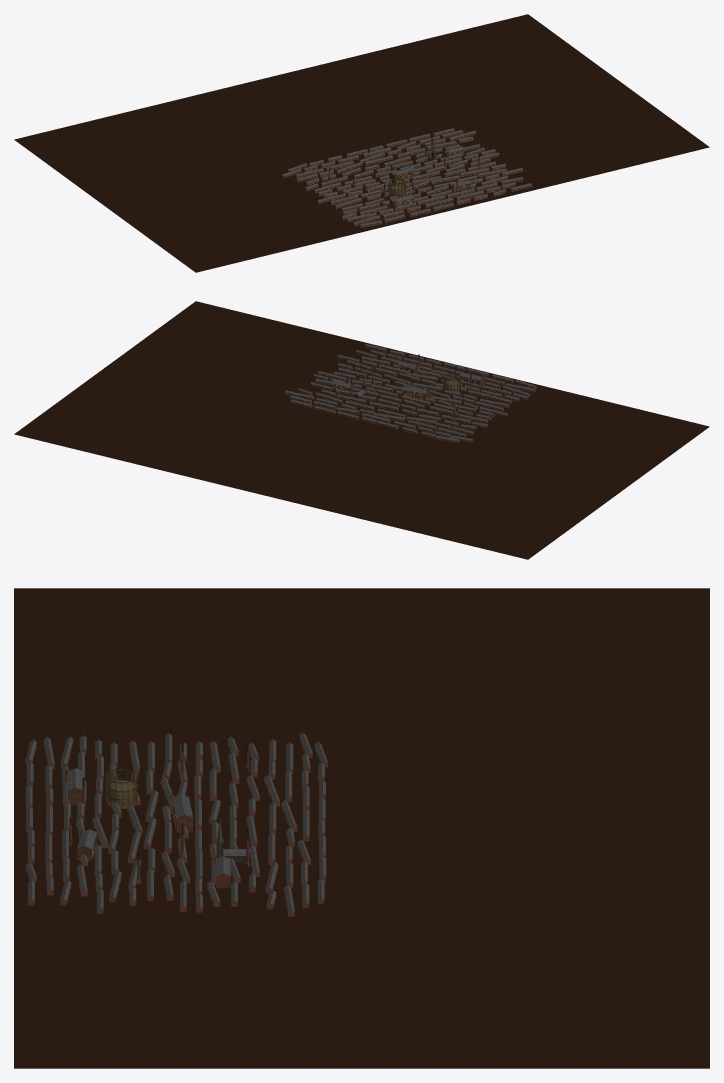
File: far-town.glb
3 views of the same model, one above another, from view 1: azimuth 30°, elevation 25°; view 2: azimuth 150°, elevation 25°; view 3: azimuth 270°, elevation 25° (orthographic). The views are drawn at different scales.
Parts seen in each view (by area): view 1: far-town-cinder-ground; view 2: far-town-cinder-ground; view 3: far-town-cinder-ground, far-town-gasholder-frame-and-bell.
Boxes of the visible parts, x1,y1,x2,y2 form: far-town-cinder-ground: (14,14,709,272); far-town-cinder-ground: (14,301,709,559); far-town-cinder-ground: (14,588,709,1068); far-town-gasholder-frame-and-bell: (105,768,138,809).
Bounding box in the file's own units: 1400 × 59.8 × 858.
10 materials, 10 textured.
